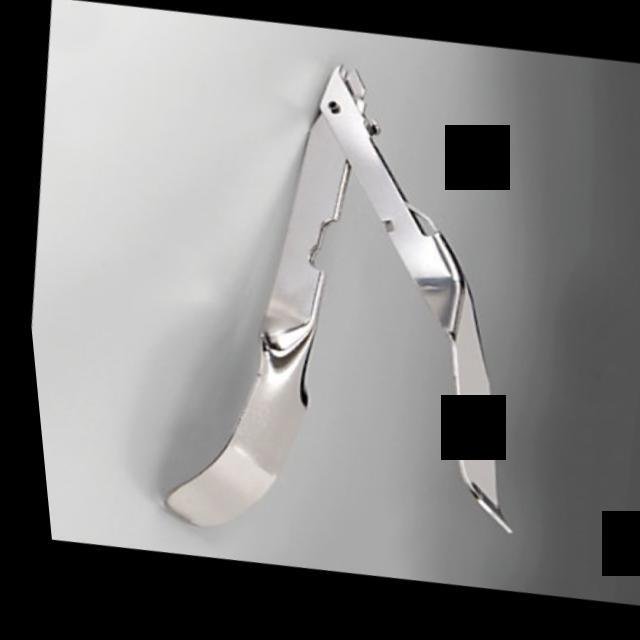Stapler Remover: (108, 29, 596, 588)
